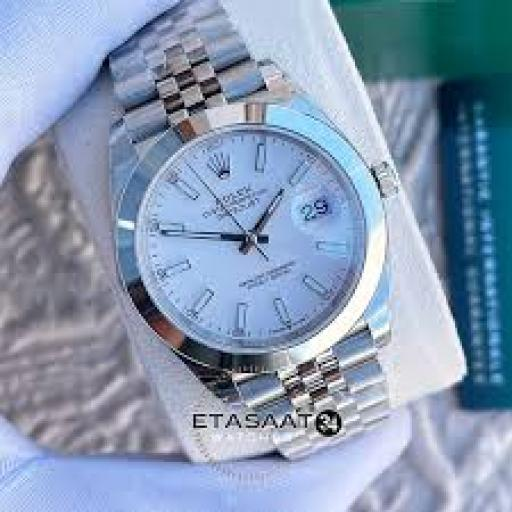KolSaati: (90, 11, 433, 476)
